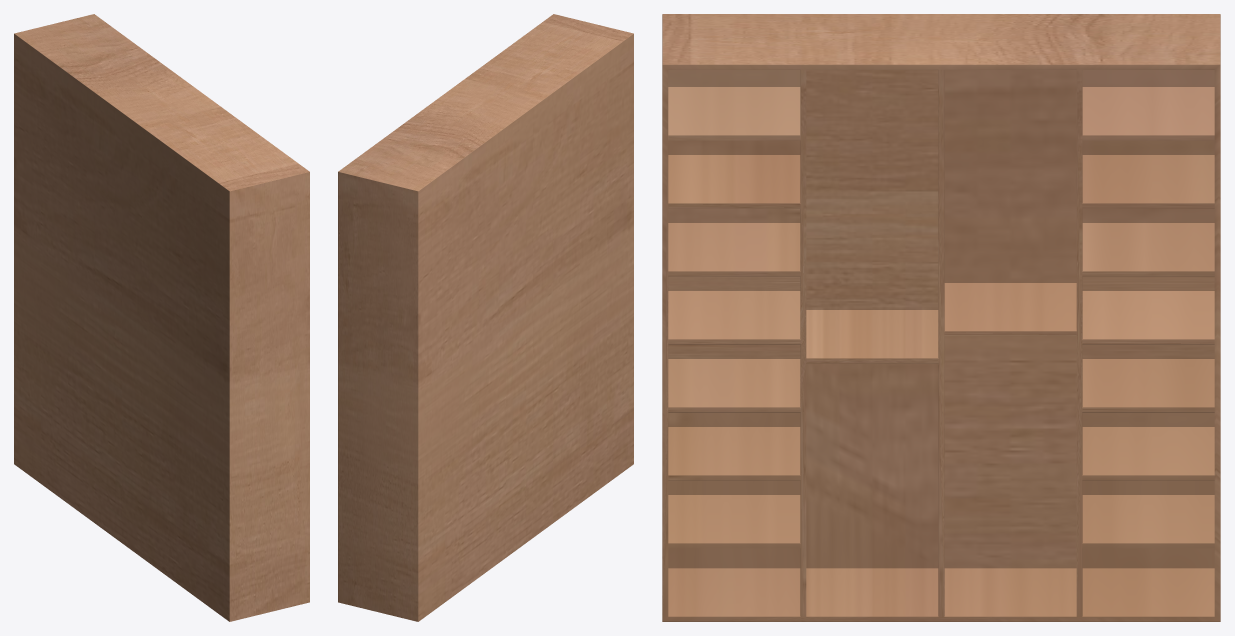
The model's file is Garde-Robe-Large.fbx.
The picture shows the model from 3 angles, left to right: view 1: azimuth 30°, elevation 25°; view 2: azimuth 150°, elevation 25°; view 3: azimuth 270°, elevation 25°; orthographic projection. The views are drawn at different scales.
Parts seen in each view (by area): view 1: Wardrobe; view 2: Wardrobe; view 3: Wardrobe.
Part boxes in pixels (x1,y1,x2,y2): Wardrobe: (14,14,309,621); Wardrobe: (338,14,633,621); Wardrobe: (662,14,1220,621).
Size of the model in its own units: 40 by 205 by 186.
4 materials, 4 textured.
